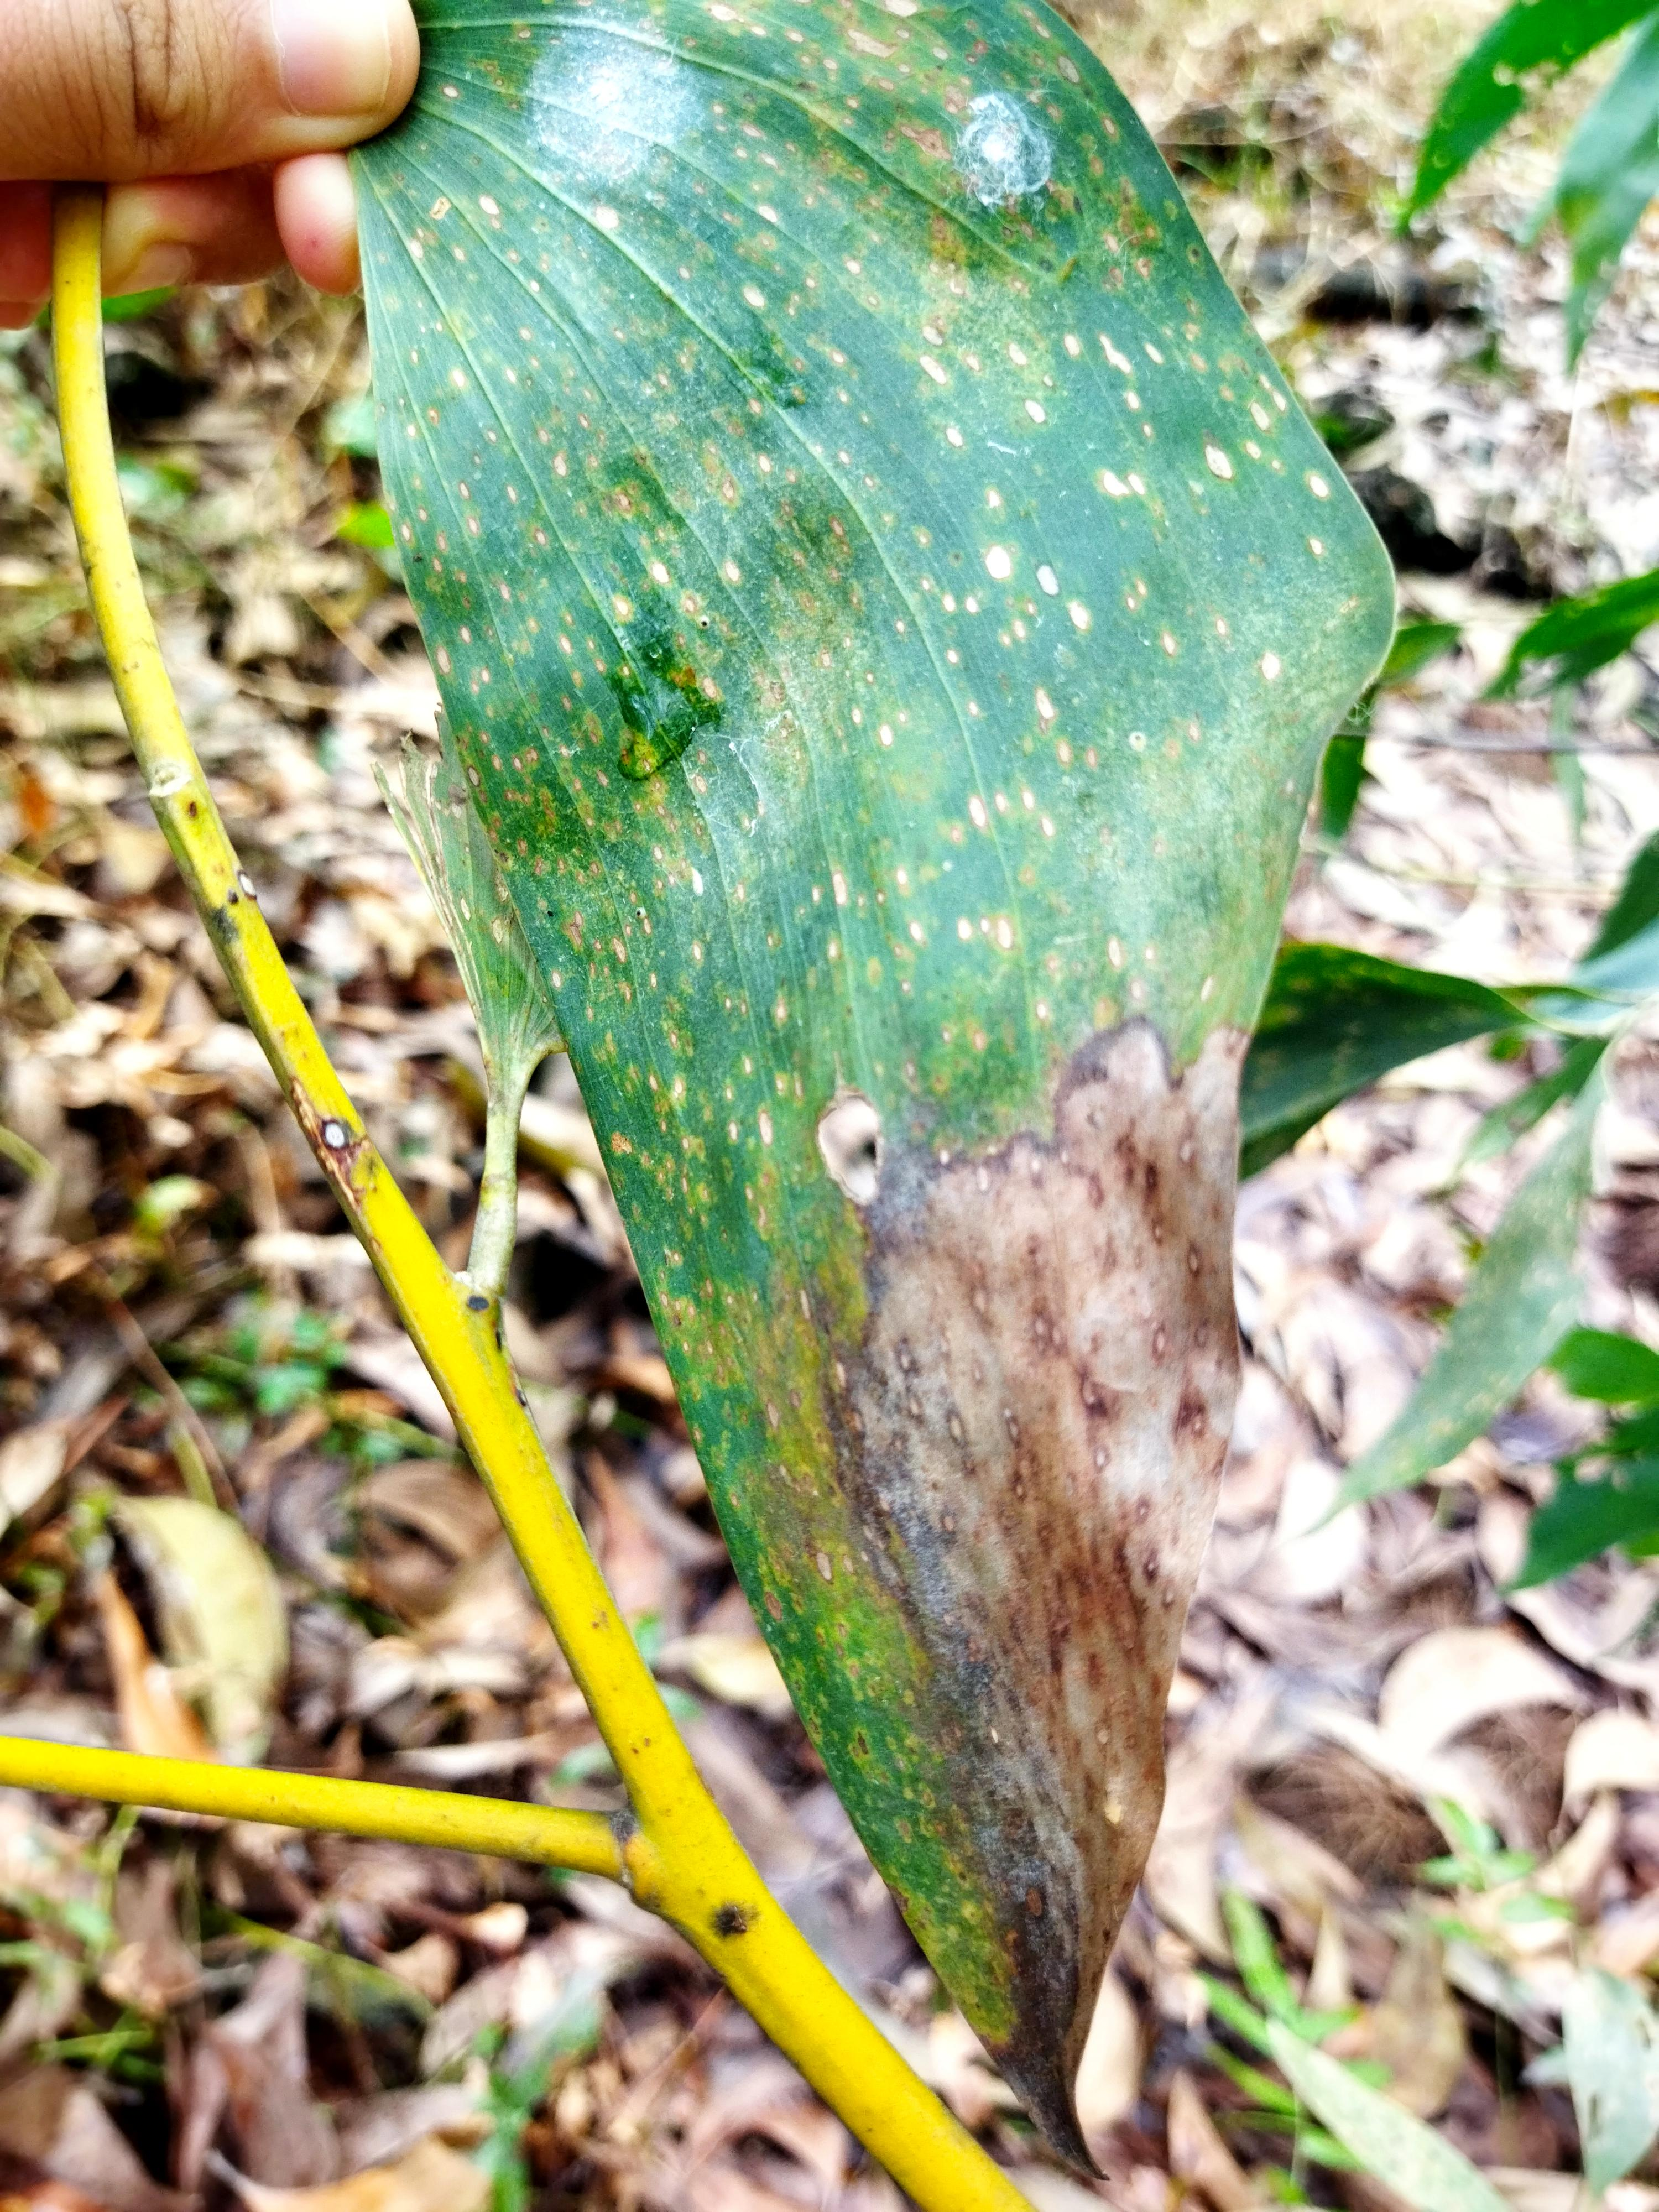Cylindrocladium: (831, 1046, 1270, 2075)
Xanthomonas: (361, 79, 1257, 1013)
